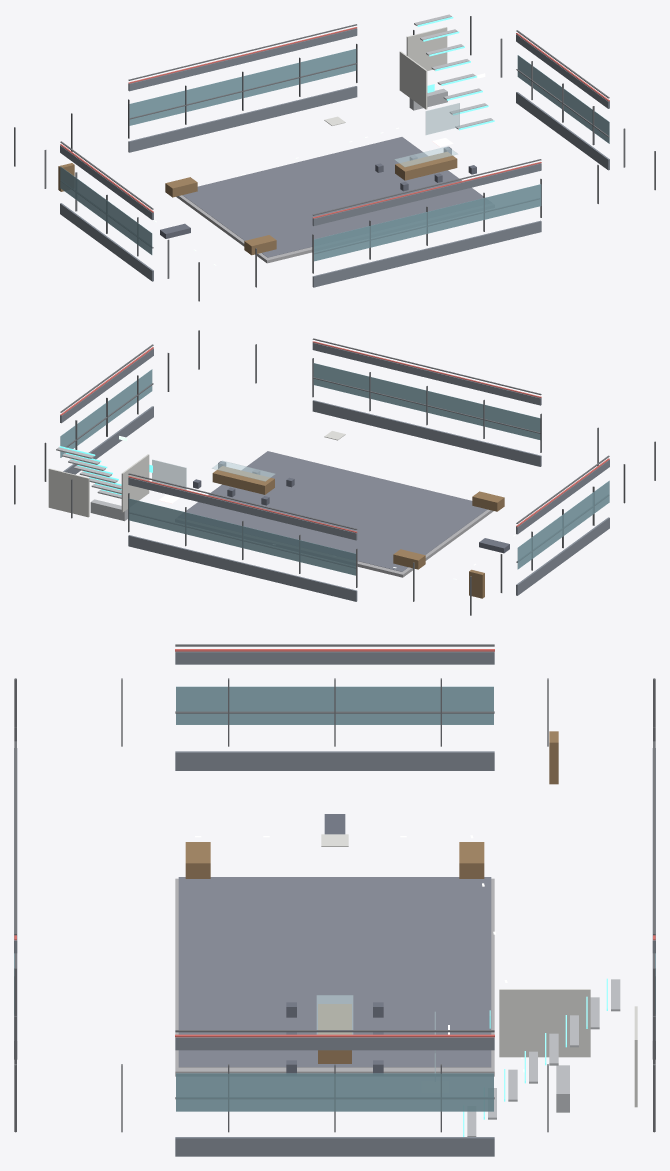
The model's file is Floor_05_Executive.fbx.
3 renders of one model, top to bottom at view 1: azimuth 30°, elevation 25°; view 2: azimuth 150°, elevation 25°; view 3: azimuth 270°, elevation 25°, orthographic. The views are drawn at different scales.
Visible parts, largest first — view 1: Floor_05_Executive; view 2: Floor_05_Executive; view 3: Floor_05_Executive.
Part boxes in pixels (x1,y1,x2,y2): Floor_05_Executive: (14,14,655,301); Floor_05_Executive: (14,330,655,615); Floor_05_Executive: (14,644,655,1156).
Size of the model in its own units: 2007 by 345 by 1407.
